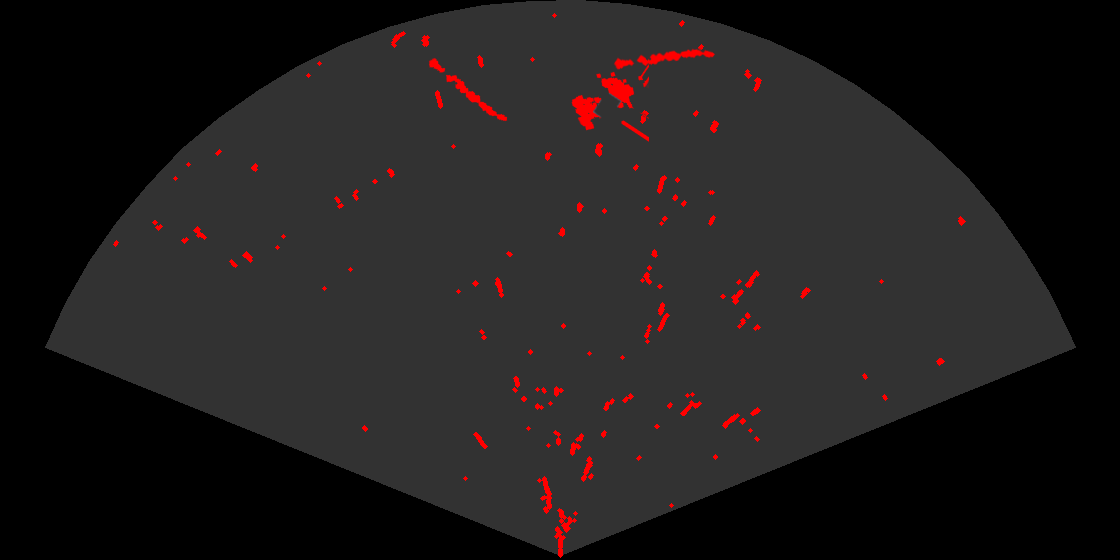cage: (570, 63, 649, 143)
chain: (427, 56, 509, 123), (612, 47, 716, 71)
